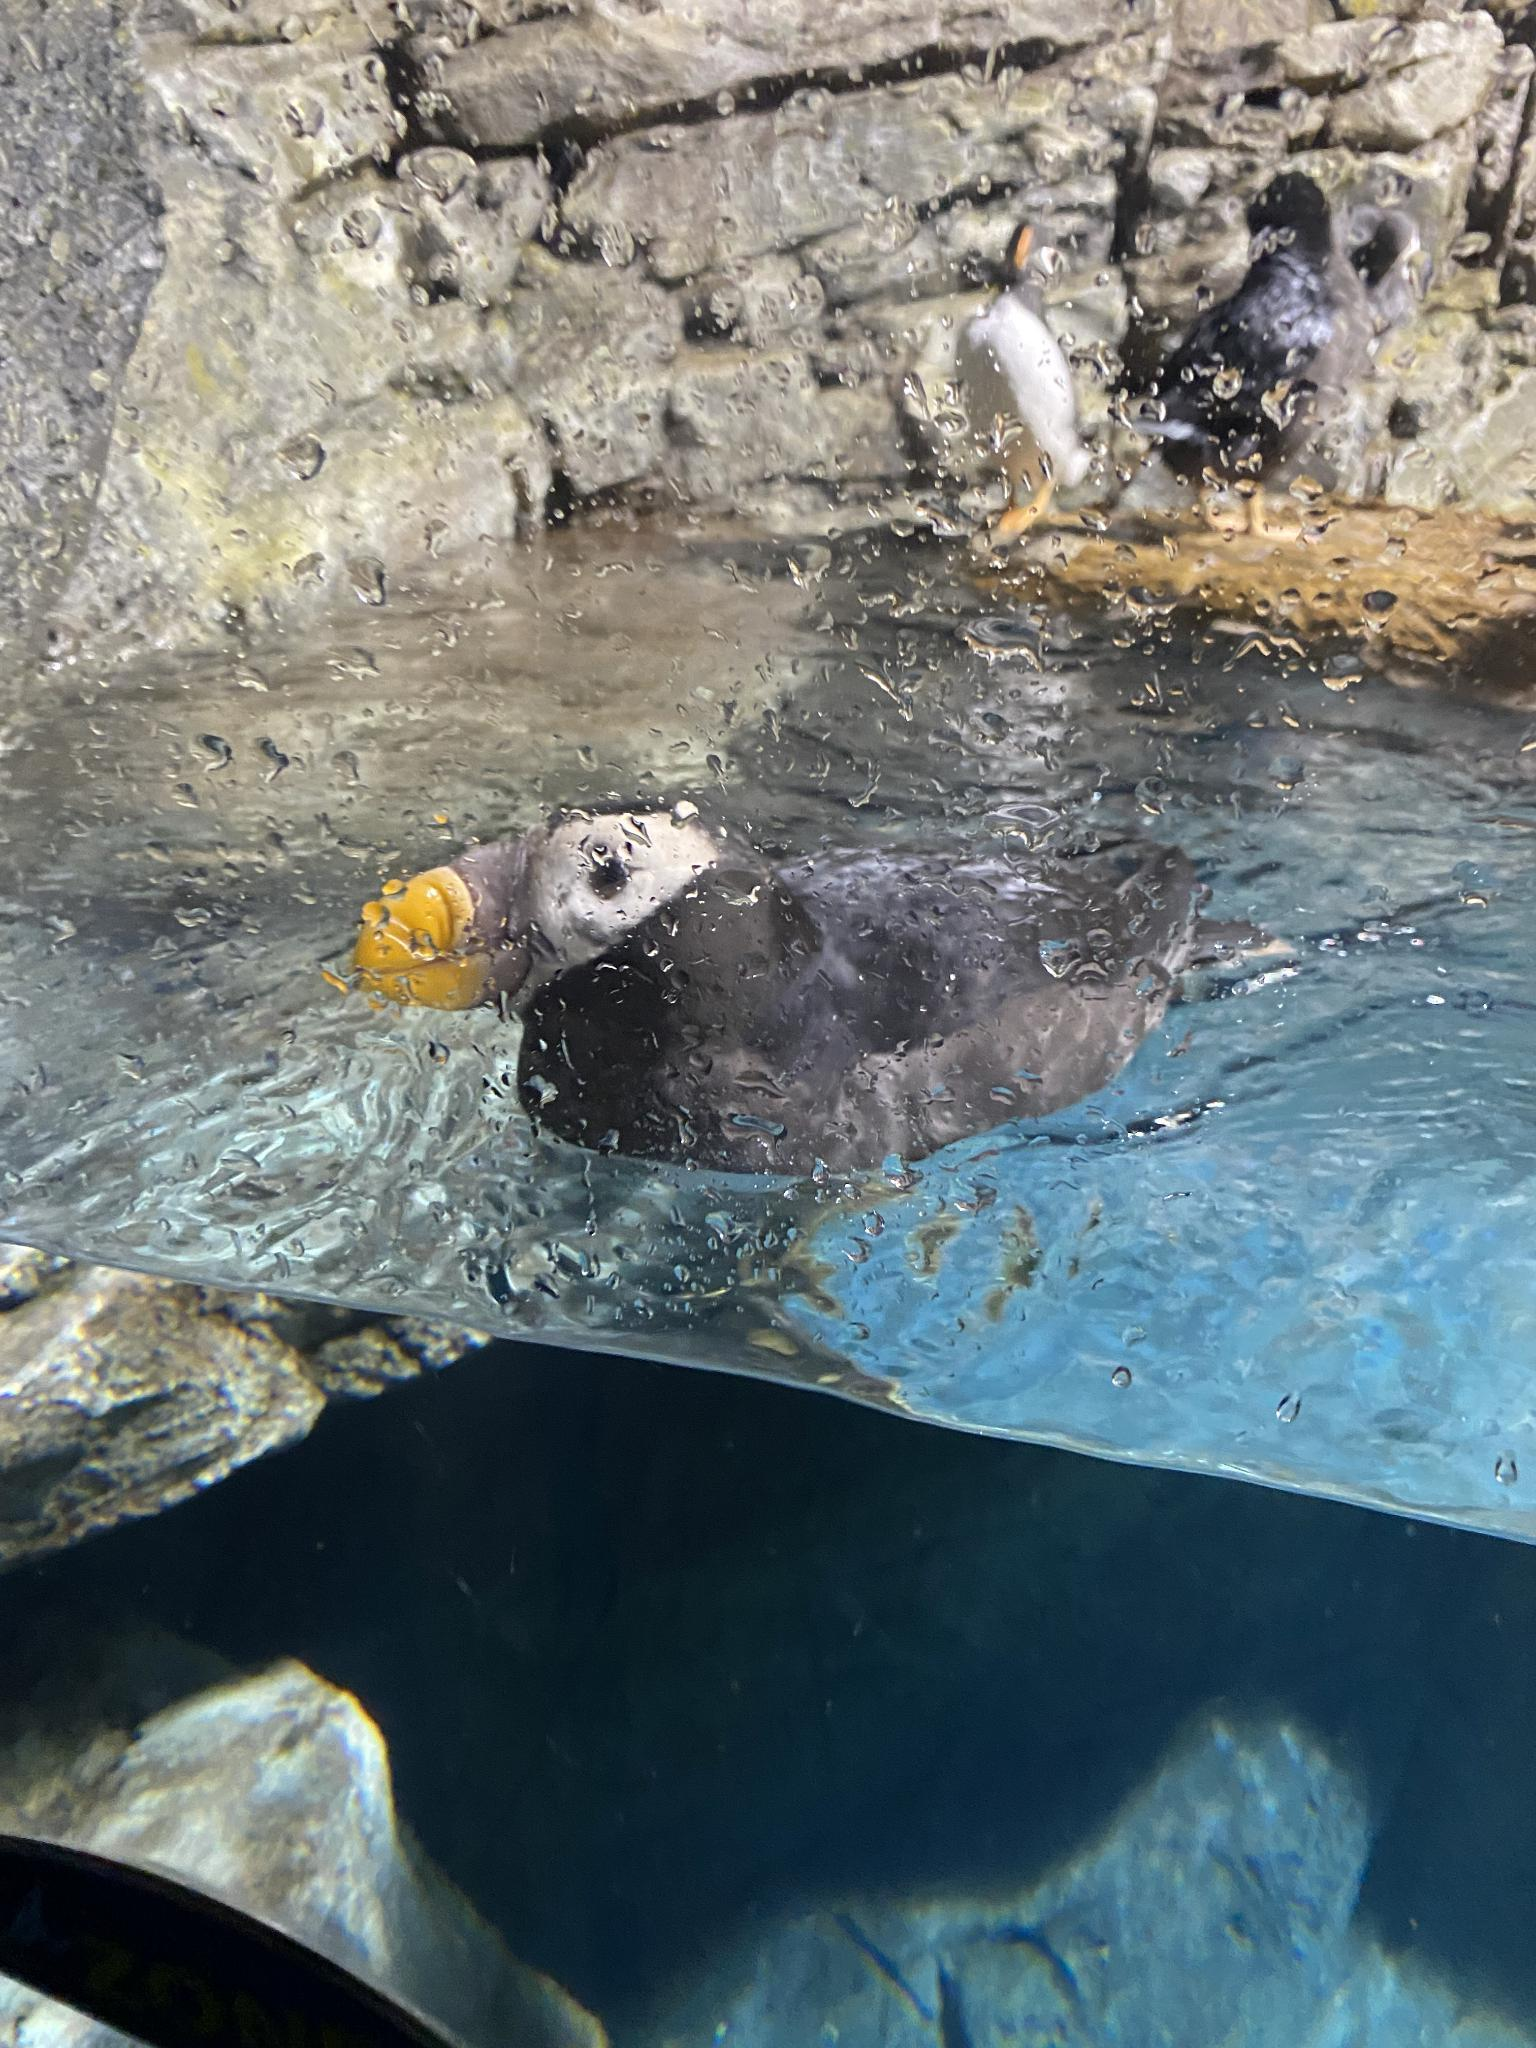puffin: (352, 797, 1292, 1176), (1121, 176, 1371, 521), (1236, 206, 1423, 505), (962, 218, 1092, 540)
